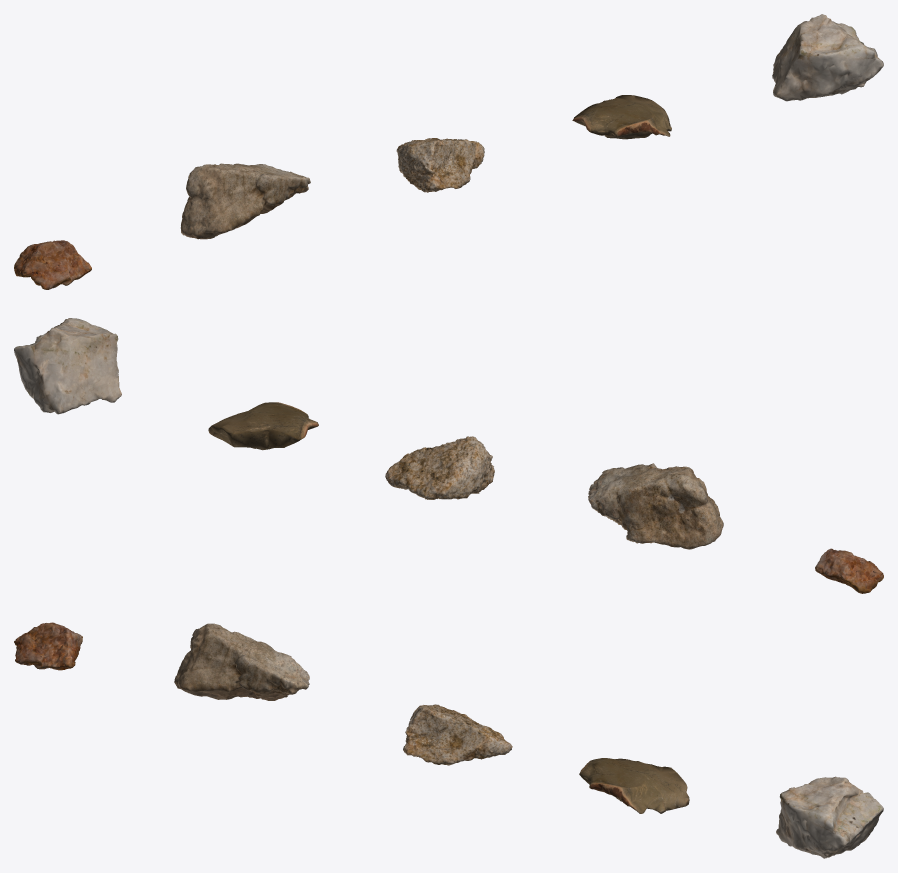
The model's file is runtime-lod.glb.
The picture shows the model from 3 angles, top to bottom: view 1: azimuth 30°, elevation 25°; view 2: azimuth 150°, elevation 25°; view 3: azimuth 330°, elevation 25°; orthographic projection.
Parts seen in each view (by area): view 1: namaqualand_stones_01_a; view 2: namaqualand_stones_01_a; view 3: namaqualand_stones_01_a.
Part boxes in pixels (x1,y1,x2,y2): namaqualand_stones_01_a: (14, 14, 883, 289); namaqualand_stones_01_a: (14, 318, 883, 593); namaqualand_stones_01_a: (14, 622, 883, 858).
Bounding box in the file's own units: 1.02 × 0.084 × 0.112.
1 material, 1 textured.
